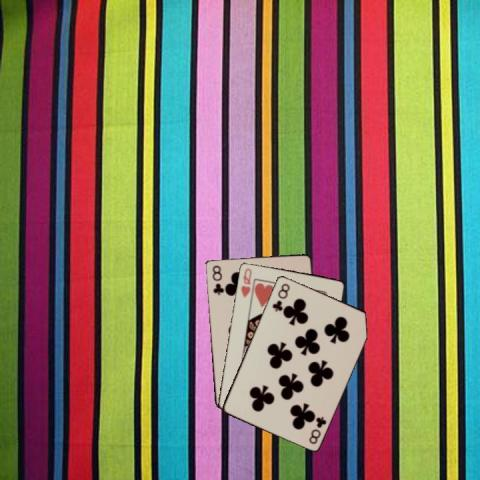8c: (269, 280, 291, 313), (306, 414, 328, 446), (210, 262, 224, 296)
Qh: (237, 264, 253, 298)
